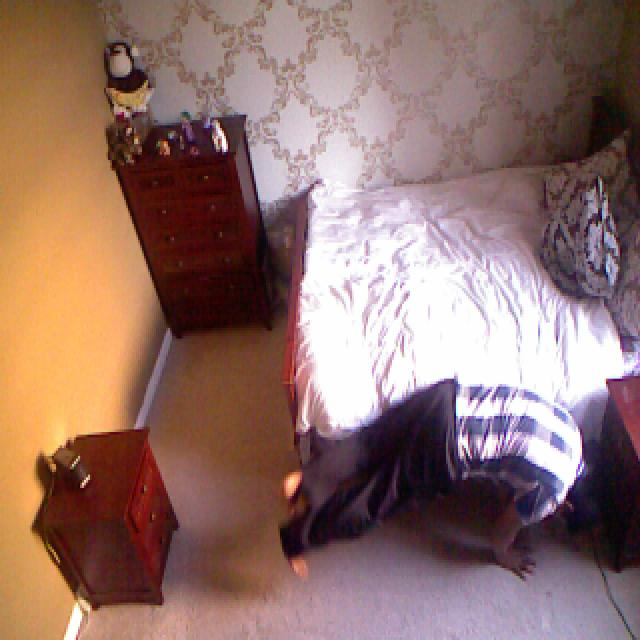crawling: (270, 377, 604, 576)
